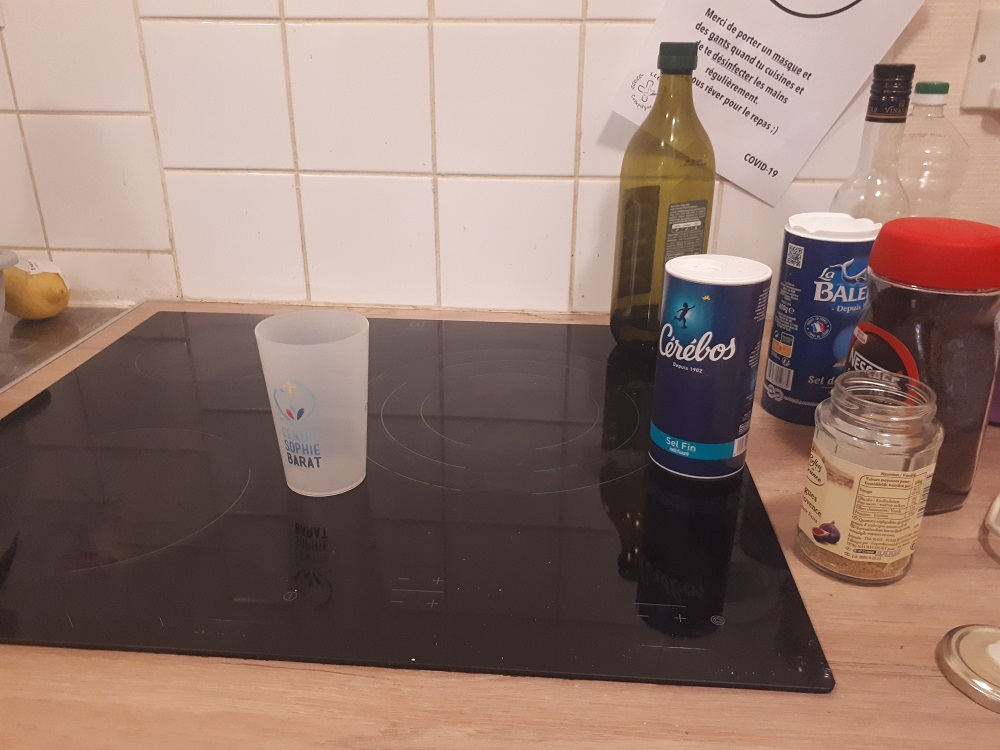ecocup: (254, 303, 375, 499)
